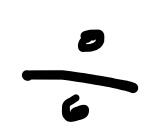div: (21, 27, 138, 122)
